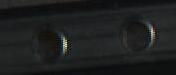joints: (26, 23, 70, 62), (118, 15, 157, 55)
